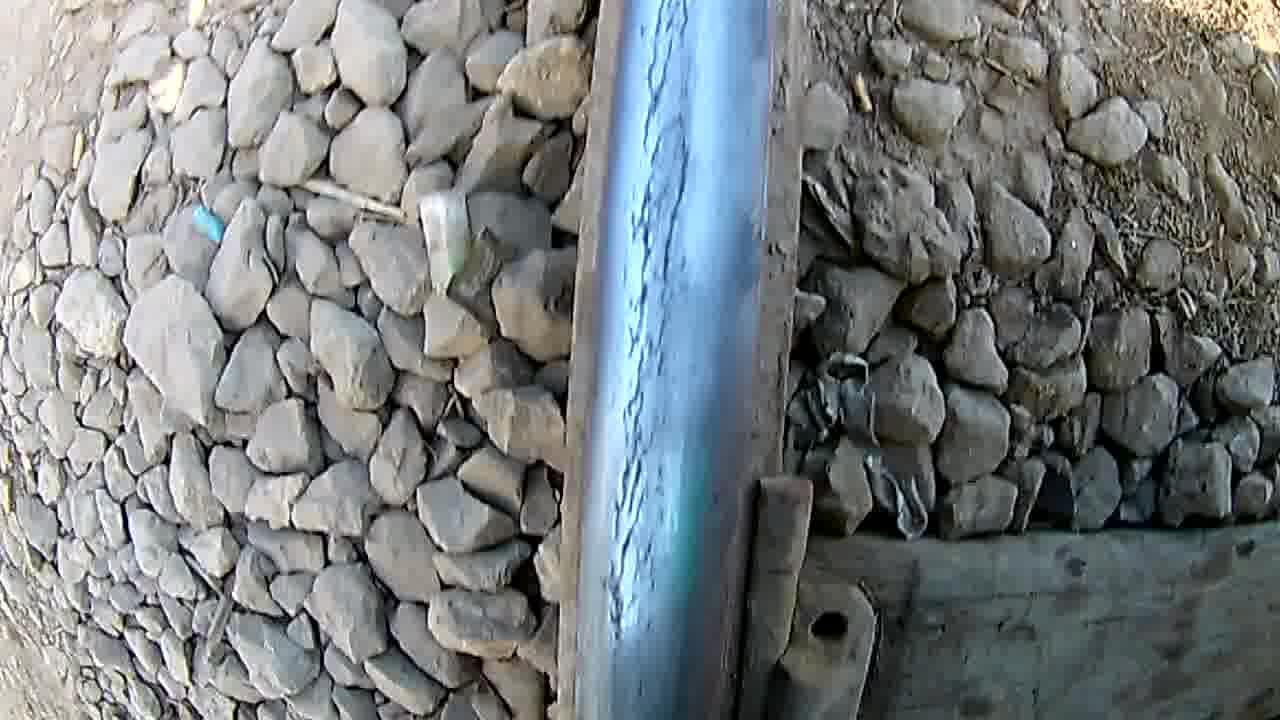normal_track: (603, 3, 704, 719)
